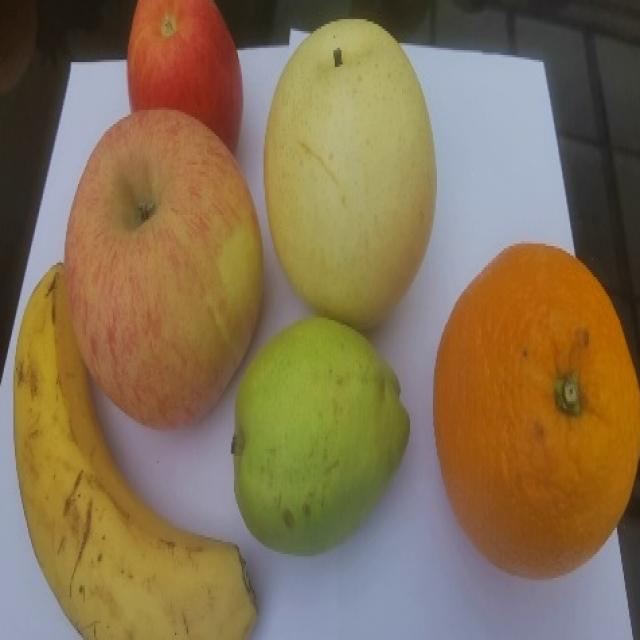Apple: (63, 107, 263, 430), (125, 0, 243, 156)
Banana: (12, 261, 257, 639)
Orange: (432, 241, 639, 579)
